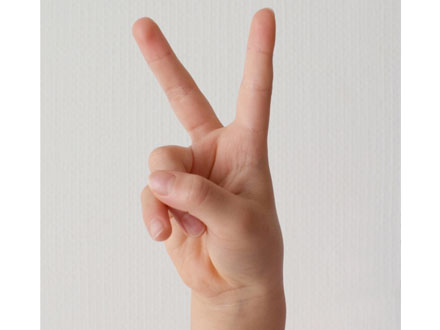hand: (133, 6, 284, 298)
